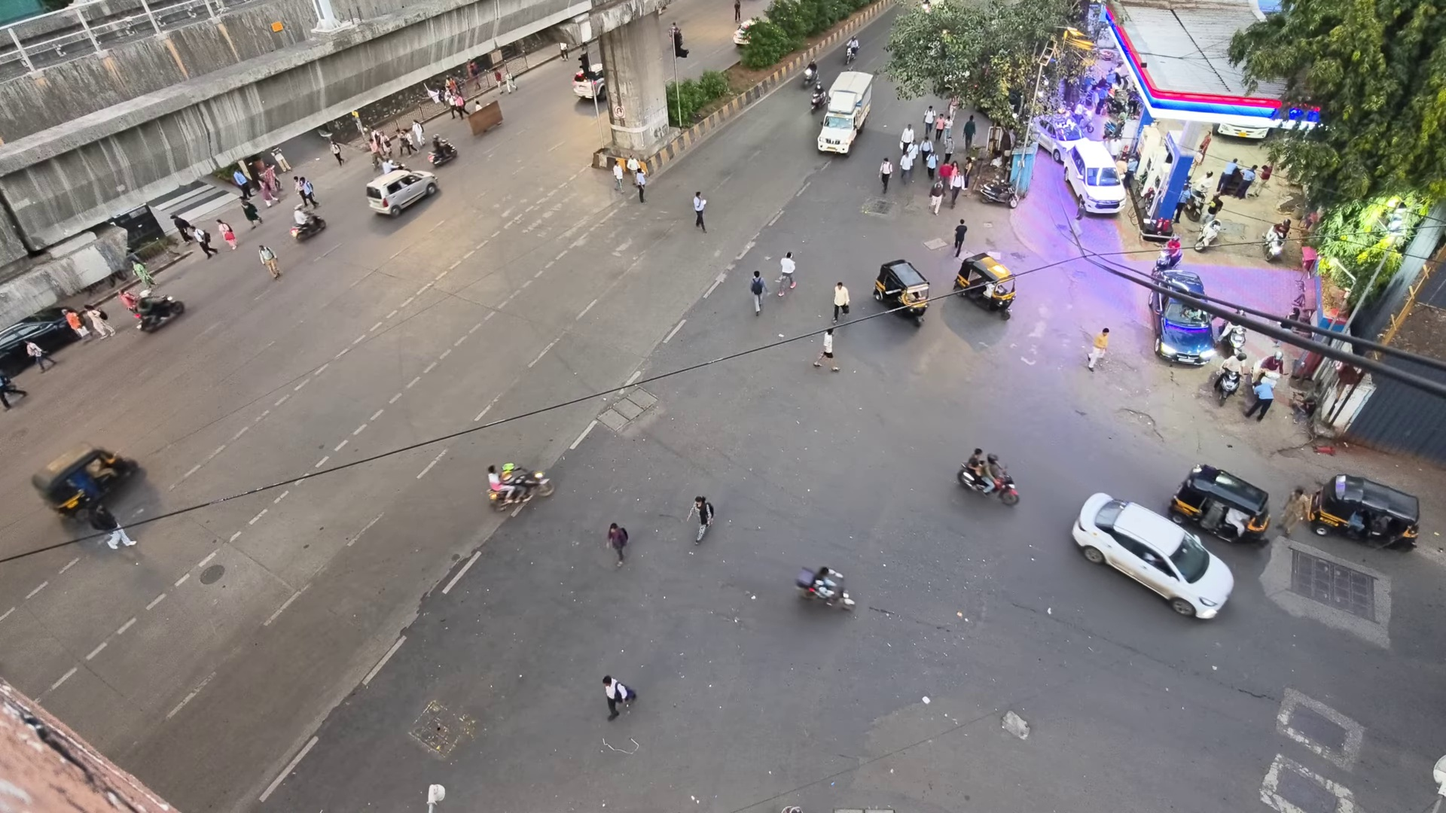walking: (90, 504, 136, 549), (603, 675, 637, 720), (1281, 487, 1310, 535), (1245, 377, 1275, 422), (813, 327, 838, 371), (0, 372, 27, 410), (85, 306, 115, 338), (694, 497, 714, 544), (26, 341, 56, 372), (607, 523, 628, 566), (1087, 329, 1109, 370), (258, 166, 279, 207), (258, 245, 281, 279), (193, 227, 218, 258), (949, 163, 966, 208), (778, 251, 795, 296), (750, 270, 767, 314), (1236, 165, 1258, 199), (65, 309, 88, 340), (1216, 159, 1238, 191), (132, 257, 154, 288), (962, 114, 977, 156), (298, 177, 318, 207), (833, 282, 848, 322), (171, 215, 193, 242), (117, 290, 138, 318), (241, 200, 262, 228), (218, 219, 236, 250), (233, 168, 251, 198), (693, 191, 706, 232), (929, 180, 944, 215), (954, 218, 967, 257), (397, 129, 417, 154), (923, 105, 936, 139), (900, 123, 914, 154), (634, 166, 646, 202), (901, 150, 914, 183), (880, 157, 892, 192), (918, 132, 933, 160), (933, 113, 948, 140), (411, 120, 425, 148), (925, 151, 938, 181), (612, 160, 624, 192), (941, 136, 954, 164), (494, 68, 508, 93), (330, 141, 343, 166), (502, 68, 515, 91), (734, 0, 741, 22)
